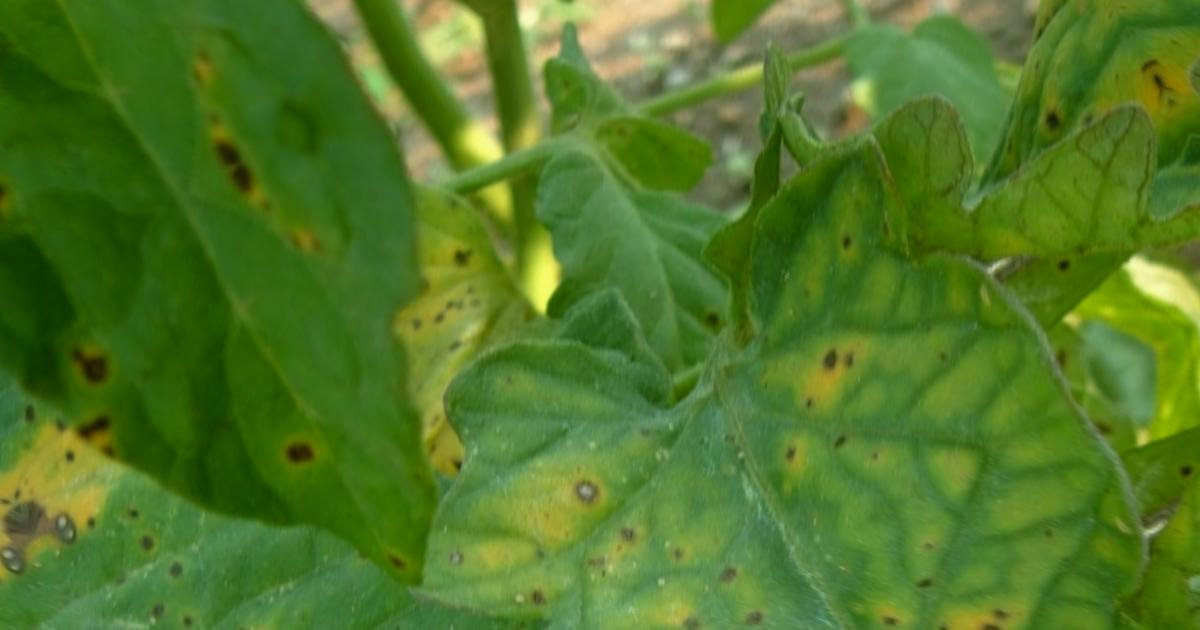Tomato Septoria leaf spot: (319, 93, 1096, 630)
